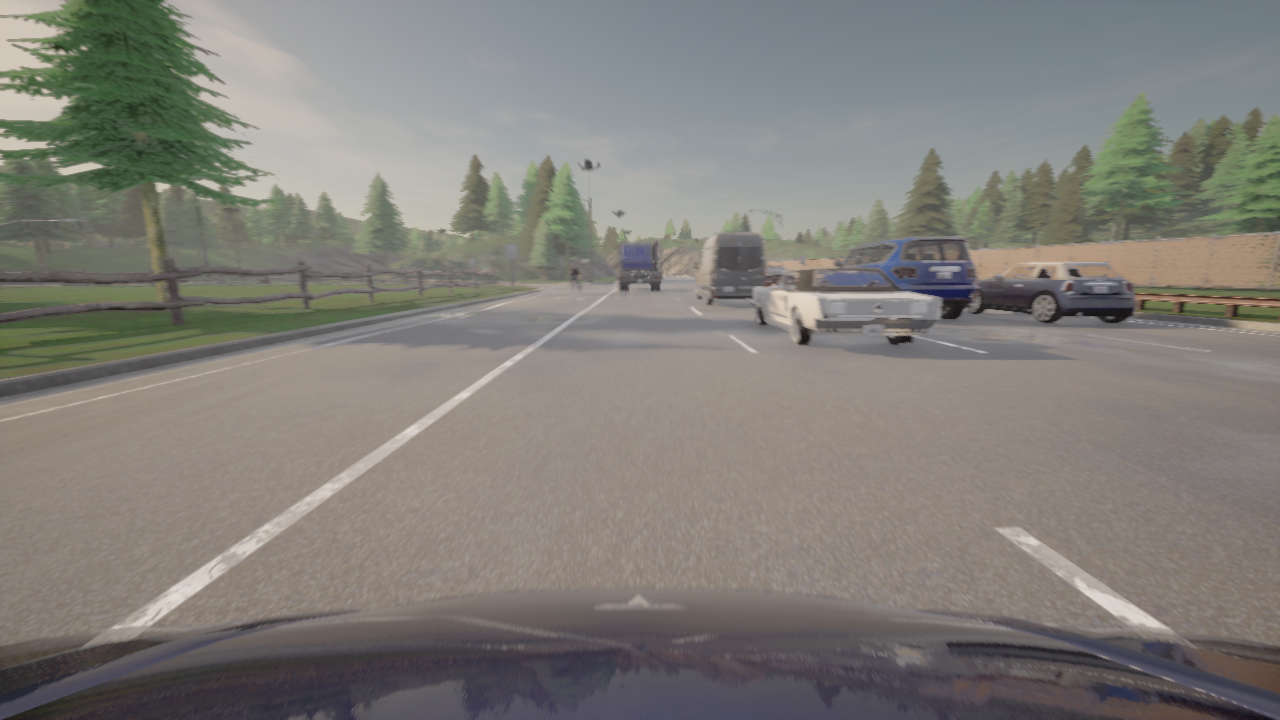cyclist: (0, 588, 1279, 719), (753, 267, 940, 344), (834, 237, 977, 319), (965, 261, 1134, 323), (693, 233, 765, 305), (617, 241, 661, 290), (765, 266, 787, 286), (572, 280, 576, 294)
